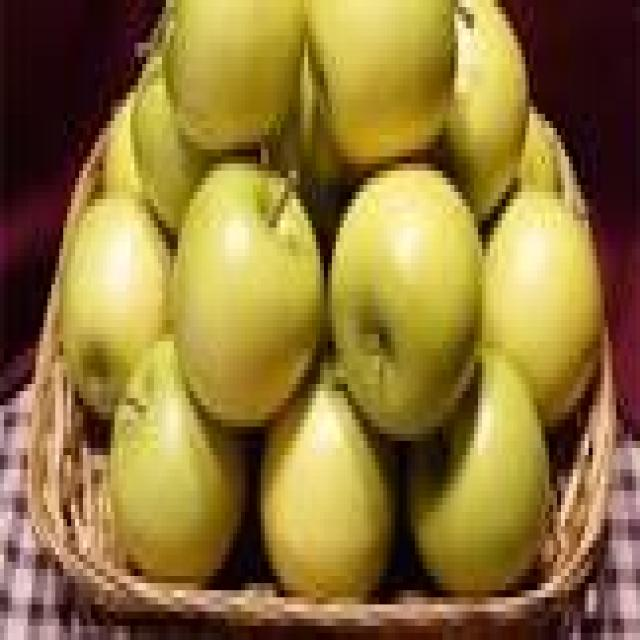apple: (328, 164, 481, 440), (174, 164, 323, 426), (407, 349, 553, 597), (107, 335, 244, 583), (261, 370, 395, 597), (482, 185, 604, 426), (60, 192, 169, 419), (309, 0, 454, 170), (166, 0, 304, 149), (443, 0, 529, 220), (273, 57, 355, 263), (131, 57, 209, 234), (301, 57, 347, 184), (103, 93, 142, 199), (518, 107, 560, 191)
